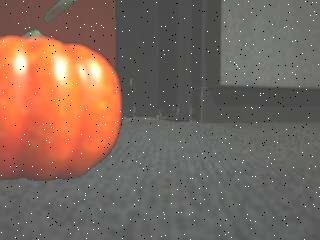Pumpkin: (0, 28, 125, 184)
